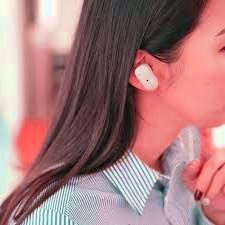earphone: (125, 49, 160, 90)
